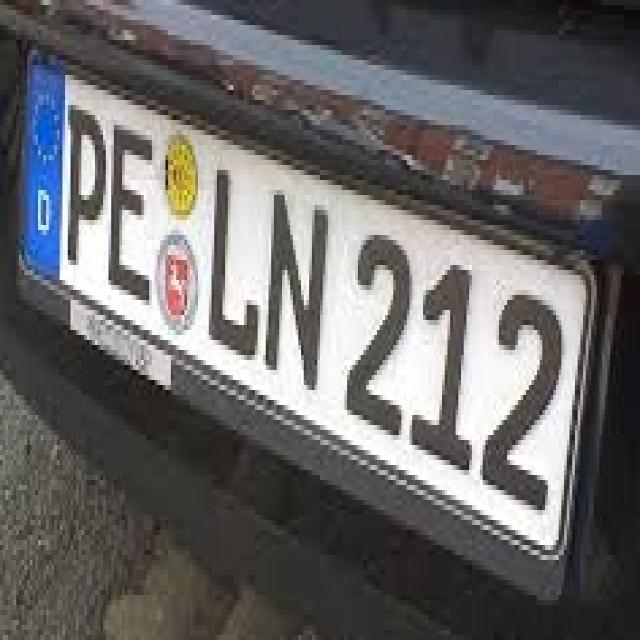Allemagne: (17, 57, 67, 286)
EU: (15, 33, 595, 565)
